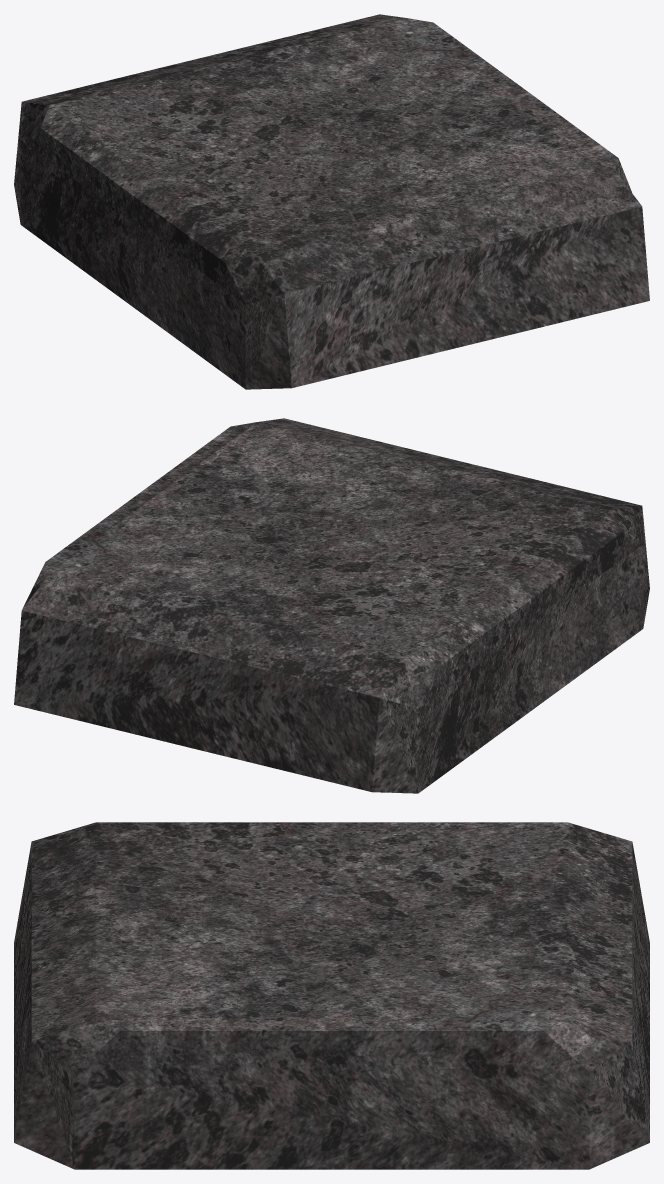
File: Wall_short2.fbx
3 renders of one model, top to bottom at view 1: azimuth 30°, elevation 25°; view 2: azimuth 150°, elevation 25°; view 3: azimuth 270°, elevation 25°, orthographic. The views are drawn at different scales.
Visible parts, largest first — view 1: Wall_short2; view 2: Wall_short2; view 3: Wall_short2.
Part boxes in pixels (bbox=[...]): Wall_short2: bbox=[14, 14, 649, 389]; Wall_short2: bbox=[14, 418, 649, 793]; Wall_short2: bbox=[14, 822, 649, 1169].
Bounding box in the file's own units: 1.02 × 0.3003 × 1.25.
1 material, 1 textured.
